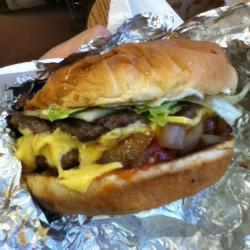burger: (12, 38, 242, 215)
